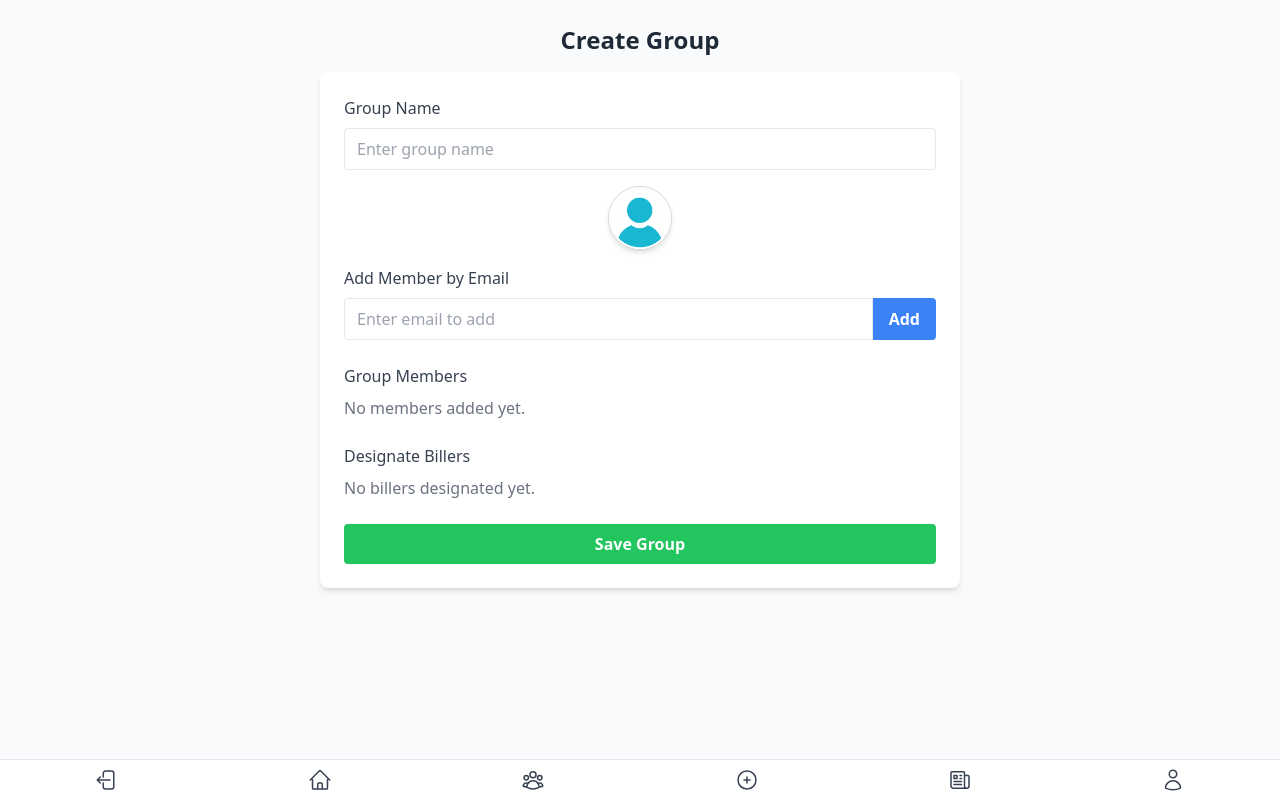
Scenario: CreateGroup Component › shows error when trying to save without group name or members
Click the button "Save Group". click: (640, 544)
box: [344, 524, 936, 564]
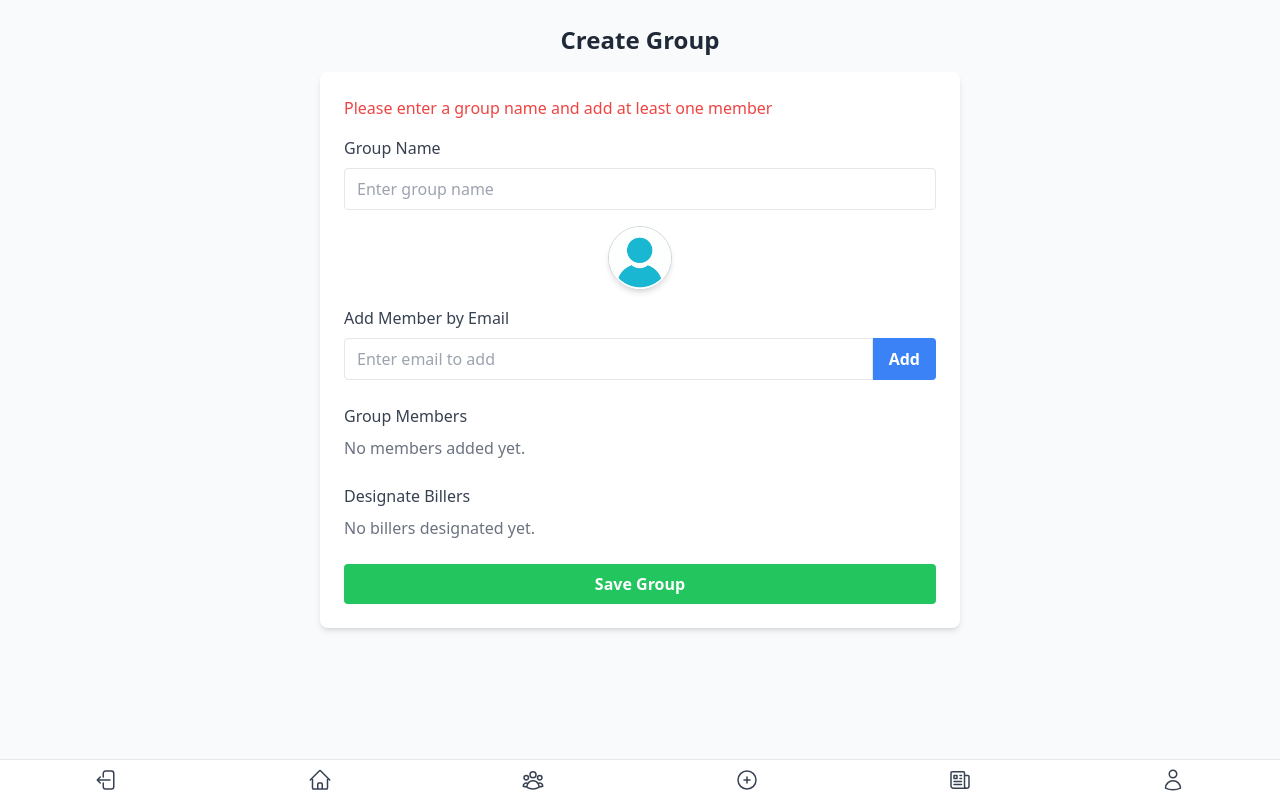
Now the text "Please enter a group name and add at least one member" is shown, box [344, 97, 772, 119]
